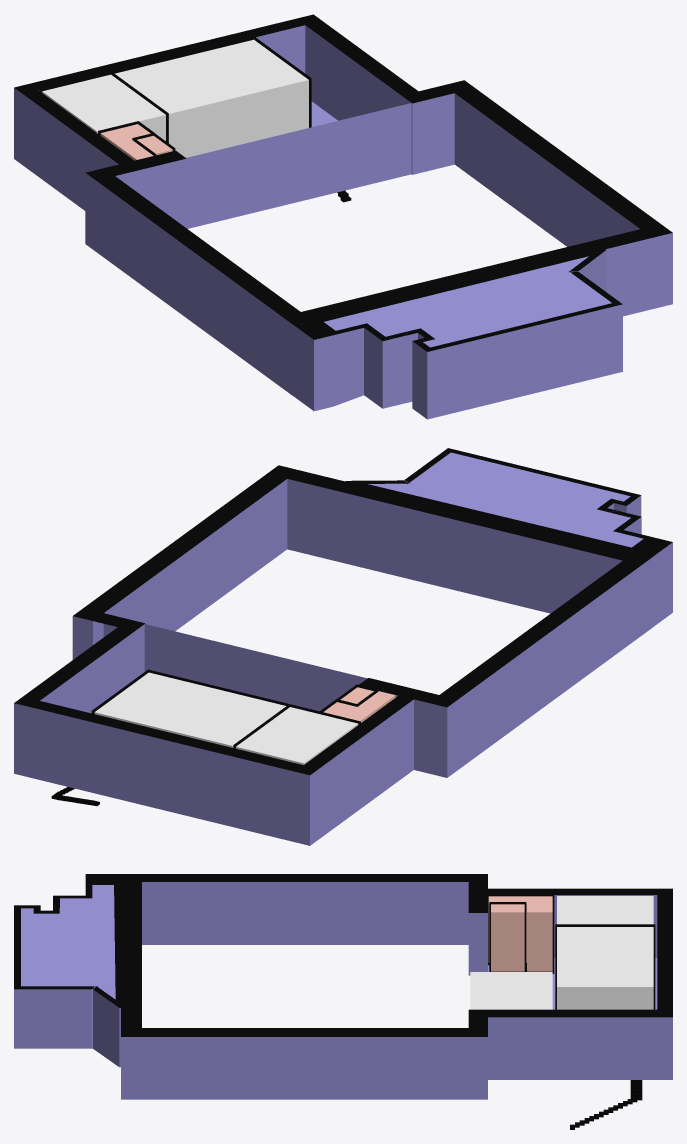
3 views of the same model, one above another, from view 1: azimuth 30°, elevation 25°; view 2: azimuth 150°, elevation 25°; view 3: azimuth 270°, elevation 25° (orthographic). The views are drawn at different scales.
Parts seen in each view (by area): view 1: object, room_S_3_1, room_S_3_2, トイレ_S_3_2, object_line.001; view 2: object, room_S_3_1, room_S_3_2, トイレ_S_3_2, object_line.001; view 3: object, room_S_3_1, room_S_3_3, room_S_3_2, トイレ_S_3_2, トイレ_S_3_1, object_line.001, 階段_S_3_1, object_line.003, object_line.002.
Part boxes in pixels (x1,y1,x2,y2): object: (14, 14, 672, 419); room_S_3_1: (115, 39, 308, 157); room_S_3_2: (42, 74, 165, 140); トイレ_S_3_2: (100, 124, 153, 160); object_line.001: (112, 36, 311, 127); object: (14, 448, 672, 845); room_S_3_1: (94, 672, 286, 747); room_S_3_2: (236, 707, 358, 764); トイレ_S_3_2: (323, 691, 395, 722); object_line.001: (91, 669, 289, 713); object: (14, 874, 672, 1099); room_S_3_1: (557, 927, 653, 1009); room_S_3_3: (470, 972, 552, 1009); room_S_3_2: (557, 896, 653, 924); トイレ_S_3_2: (488, 896, 552, 971); トイレ_S_3_1: (491, 904, 524, 971); object_line.001: (555, 924, 655, 1009); 階段_S_3_1: (570, 1080, 642, 1129); object_line.003: (487, 894, 554, 973); object_line.002: (489, 902, 526, 971).
Size of the model in its own units: 0.9632 by 0.3401 by 1.65.
